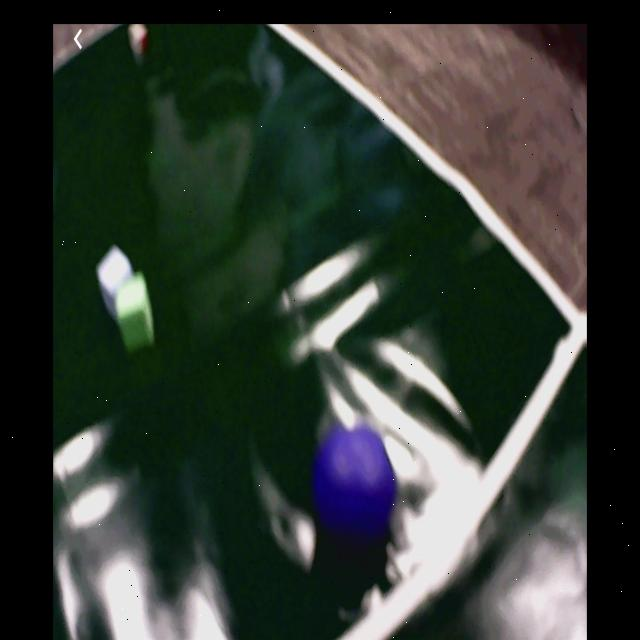ball: (316, 429, 397, 541)
